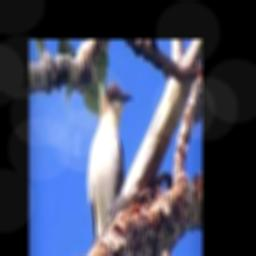Cuckoo: (87, 83, 134, 240)
